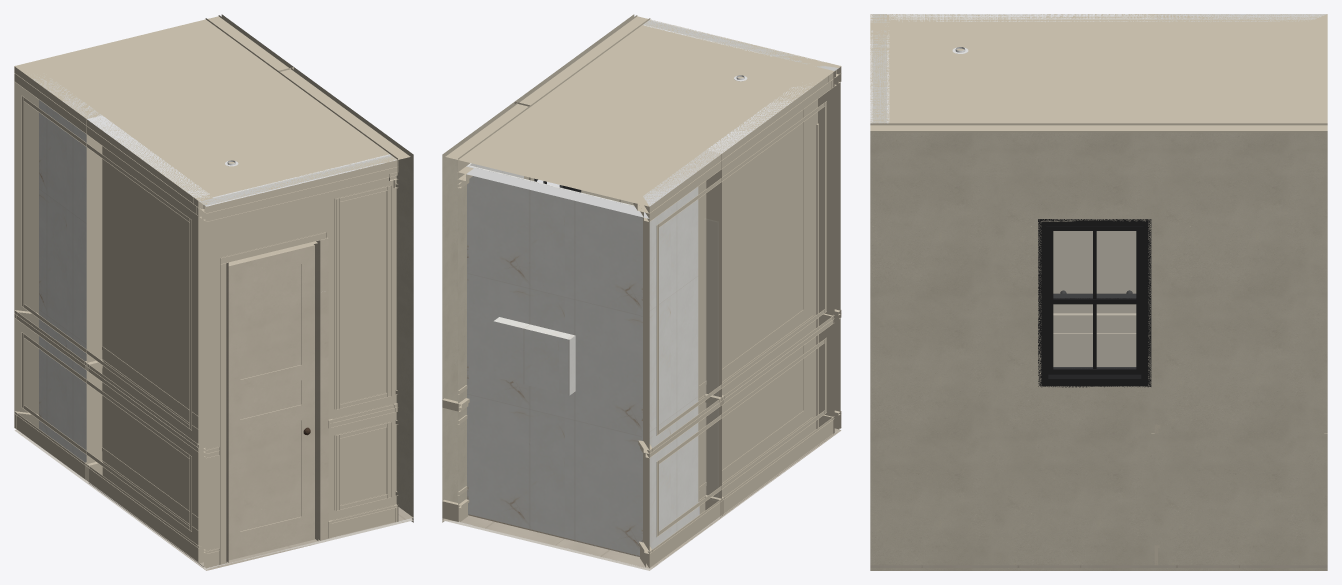
File: loli-bathroom-ef1974da0e6d.glb
3 views of the same model, side by side, from view 1: azimuth 30°, elevation 25°; view 2: azimuth 150°, elevation 25°; view 3: azimuth 270°, elevation 25° (orthographic). The views are drawn at different scales.
Parts seen in each view (by area): view 1: loli-bathroom-2575515a05775d9e, loli-bathroom-03bdd0165789d12b, loli-bathroom-0e637d2be41161fb, loli-bathroom-eceff908bd344cec, loli-bathroom-5795d1714989146e, loli-bathroom-e64cabe238f3e83a, loli-bathroom-319244b3406409d9, loli-bathroom-4a0606b58a607568, loli-bathroom-a8b6749dbb482e83, loli-bathroom-609bc1027670cc96, loli-bathroom-cc15fd6f291c811e, loli-bathroom-92c333610bf7beb4 (+19 smaller); view 2: loli-bathroom-51561c1911f47dcb, loli-bathroom-2575515a05775d9e, loli-bathroom-03bdd0165789d12b, loli-bathroom-5795d1714989146e, loli-bathroom-1c7325212038a6e7, loli-bathroom-e462de76b61e99cf, loli-bathroom-a90dd75c175210c7, loli-bathroom-0e637d2be41161fb, loli-bathroom-e64cabe238f3e83a, loli-bathroom-a8b6749dbb482e83, loli-bathroom-cc15fd6f291c811e, loli-bathroom-92c333610bf7beb4 (+13 smaller); view 3: loli-bathroom-319244b3406409d9, loli-bathroom-e462de76b61e99cf, loli-bathroom-2575515a05775d9e, loli-bathroom-15d1eb52c435a27e, loli-bathroom-03bdd0165789d12b, loli-bathroom-0e637d2be41161fb, loli-bathroom-3b0077416469e01b, loli-bathroom-76fec1e12e3db62a, loli-bathroom-1c7325212038a6e7, loli-bathroom-3b79cb6a0eb20f8c, loli-bathroom-687fd4d2e321b111.
Part boxes in pixels (left/top/right/bottom): loli-bathroom-2575515a05775d9e: left=14, top=15, right=410, bottom=201; loli-bathroom-03bdd0165789d12b: left=86, top=115, right=209, bottom=560; loli-bathroom-0e637d2be41161fb: left=198, top=154, right=397, bottom=568; loli-bathroom-eceff908bd344cec: left=228, top=244, right=314, bottom=560; loli-bathroom-5795d1714989146e: left=39, top=100, right=86, bottom=462; loli-bathroom-e64cabe238f3e83a: left=14, top=78, right=38, bottom=428; loli-bathroom-319244b3406409d9: left=278, top=67, right=413, bottom=521; loli-bathroom-4a0606b58a607568: left=318, top=237, right=328, bottom=540; loli-bathroom-a8b6749dbb482e83: left=14, top=412, right=199, bottom=562; loli-bathroom-609bc1027670cc96: left=206, top=160, right=398, bottom=221; loli-bathroom-cc15fd6f291c811e: left=14, top=67, right=199, bottom=216; loli-bathroom-92c333610bf7beb4: left=21, top=96, right=191, bottom=430; loli-bathroom-51561c1911f47dcb: left=467, top=165, right=642, bottom=556; loli-bathroom-2575515a05775d9e: left=445, top=15, right=840, bottom=206; loli-bathroom-03bdd0165789d12b: left=707, top=86, right=833, bottom=482; loli-bathroom-5795d1714989146e: left=641, top=187, right=698, bottom=549; loli-bathroom-1c7325212038a6e7: left=643, top=150, right=721, bottom=567; loli-bathroom-e462de76b61e99cf: left=442, top=102, right=530, bottom=502; loli-bathroom-a90dd75c175210c7: left=493, top=317, right=575, bottom=395; loli-bathroom-0e637d2be41161fb: left=643, top=19, right=840, bottom=433; loli-bathroom-e64cabe238f3e83a: left=458, top=165, right=649, bottom=548; loli-bathroom-a8b6749dbb482e83: left=649, top=417, right=834, bottom=567; loli-bathroom-cc15fd6f291c811e: left=649, top=72, right=834, bottom=221; loli-bathroom-92c333610bf7beb4: left=656, top=101, right=826, bottom=435; loli-bathroom-319244b3406409d9: left=870, top=123, right=1155, bottom=565; loli-bathroom-e462de76b61e99cf: left=1155, top=123, right=1327, bottom=565; loli-bathroom-2575515a05775d9e: left=870, top=14, right=1327, bottom=132; loli-bathroom-15d1eb52c435a27e: left=1038, top=219, right=1151, bottom=387; loli-bathroom-03bdd0165789d12b: left=889, top=14, right=1155, bottom=366; loli-bathroom-0e637d2be41161fb: left=870, top=14, right=889, bottom=123; loli-bathroom-3b0077416469e01b: left=870, top=565, right=1327, bottom=567; loli-bathroom-76fec1e12e3db62a: left=870, top=568, right=1327, bottom=570; loli-bathroom-1c7325212038a6e7: left=1155, top=14, right=1326, bottom=21; loli-bathroom-3b79cb6a0eb20f8c: left=1053, top=313, right=1136, bottom=323; loli-bathroom-687fd4d2e321b111: left=872, top=14, right=883, bottom=123.
Size of the model in its own units: 1.8 by 3.05 by 2.88.
Materials: 36 (7 with a texture image).
